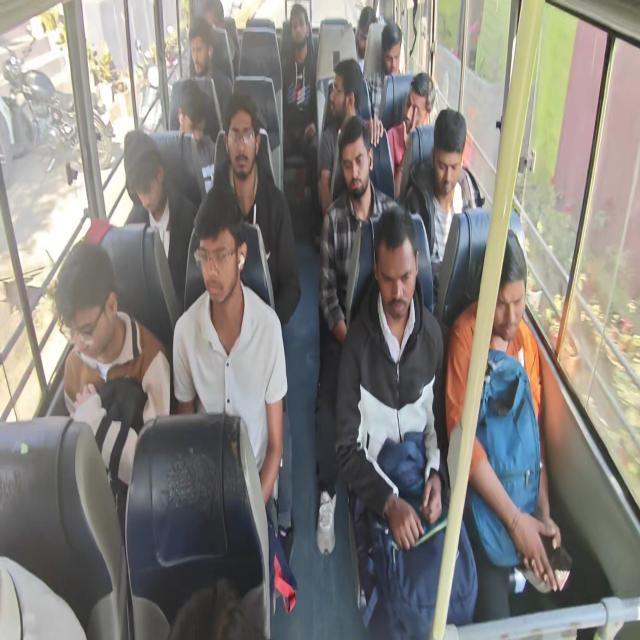person: (45, 239, 116, 361), (192, 205, 240, 301), (374, 219, 420, 316), (488, 246, 526, 349), (121, 134, 168, 216), (436, 110, 469, 194), (339, 124, 372, 202), (225, 106, 258, 176), (173, 85, 208, 145), (183, 26, 219, 73), (325, 65, 356, 113), (402, 74, 430, 126), (353, 8, 382, 56), (380, 27, 403, 75), (198, 0, 227, 38), (287, 8, 308, 49)
